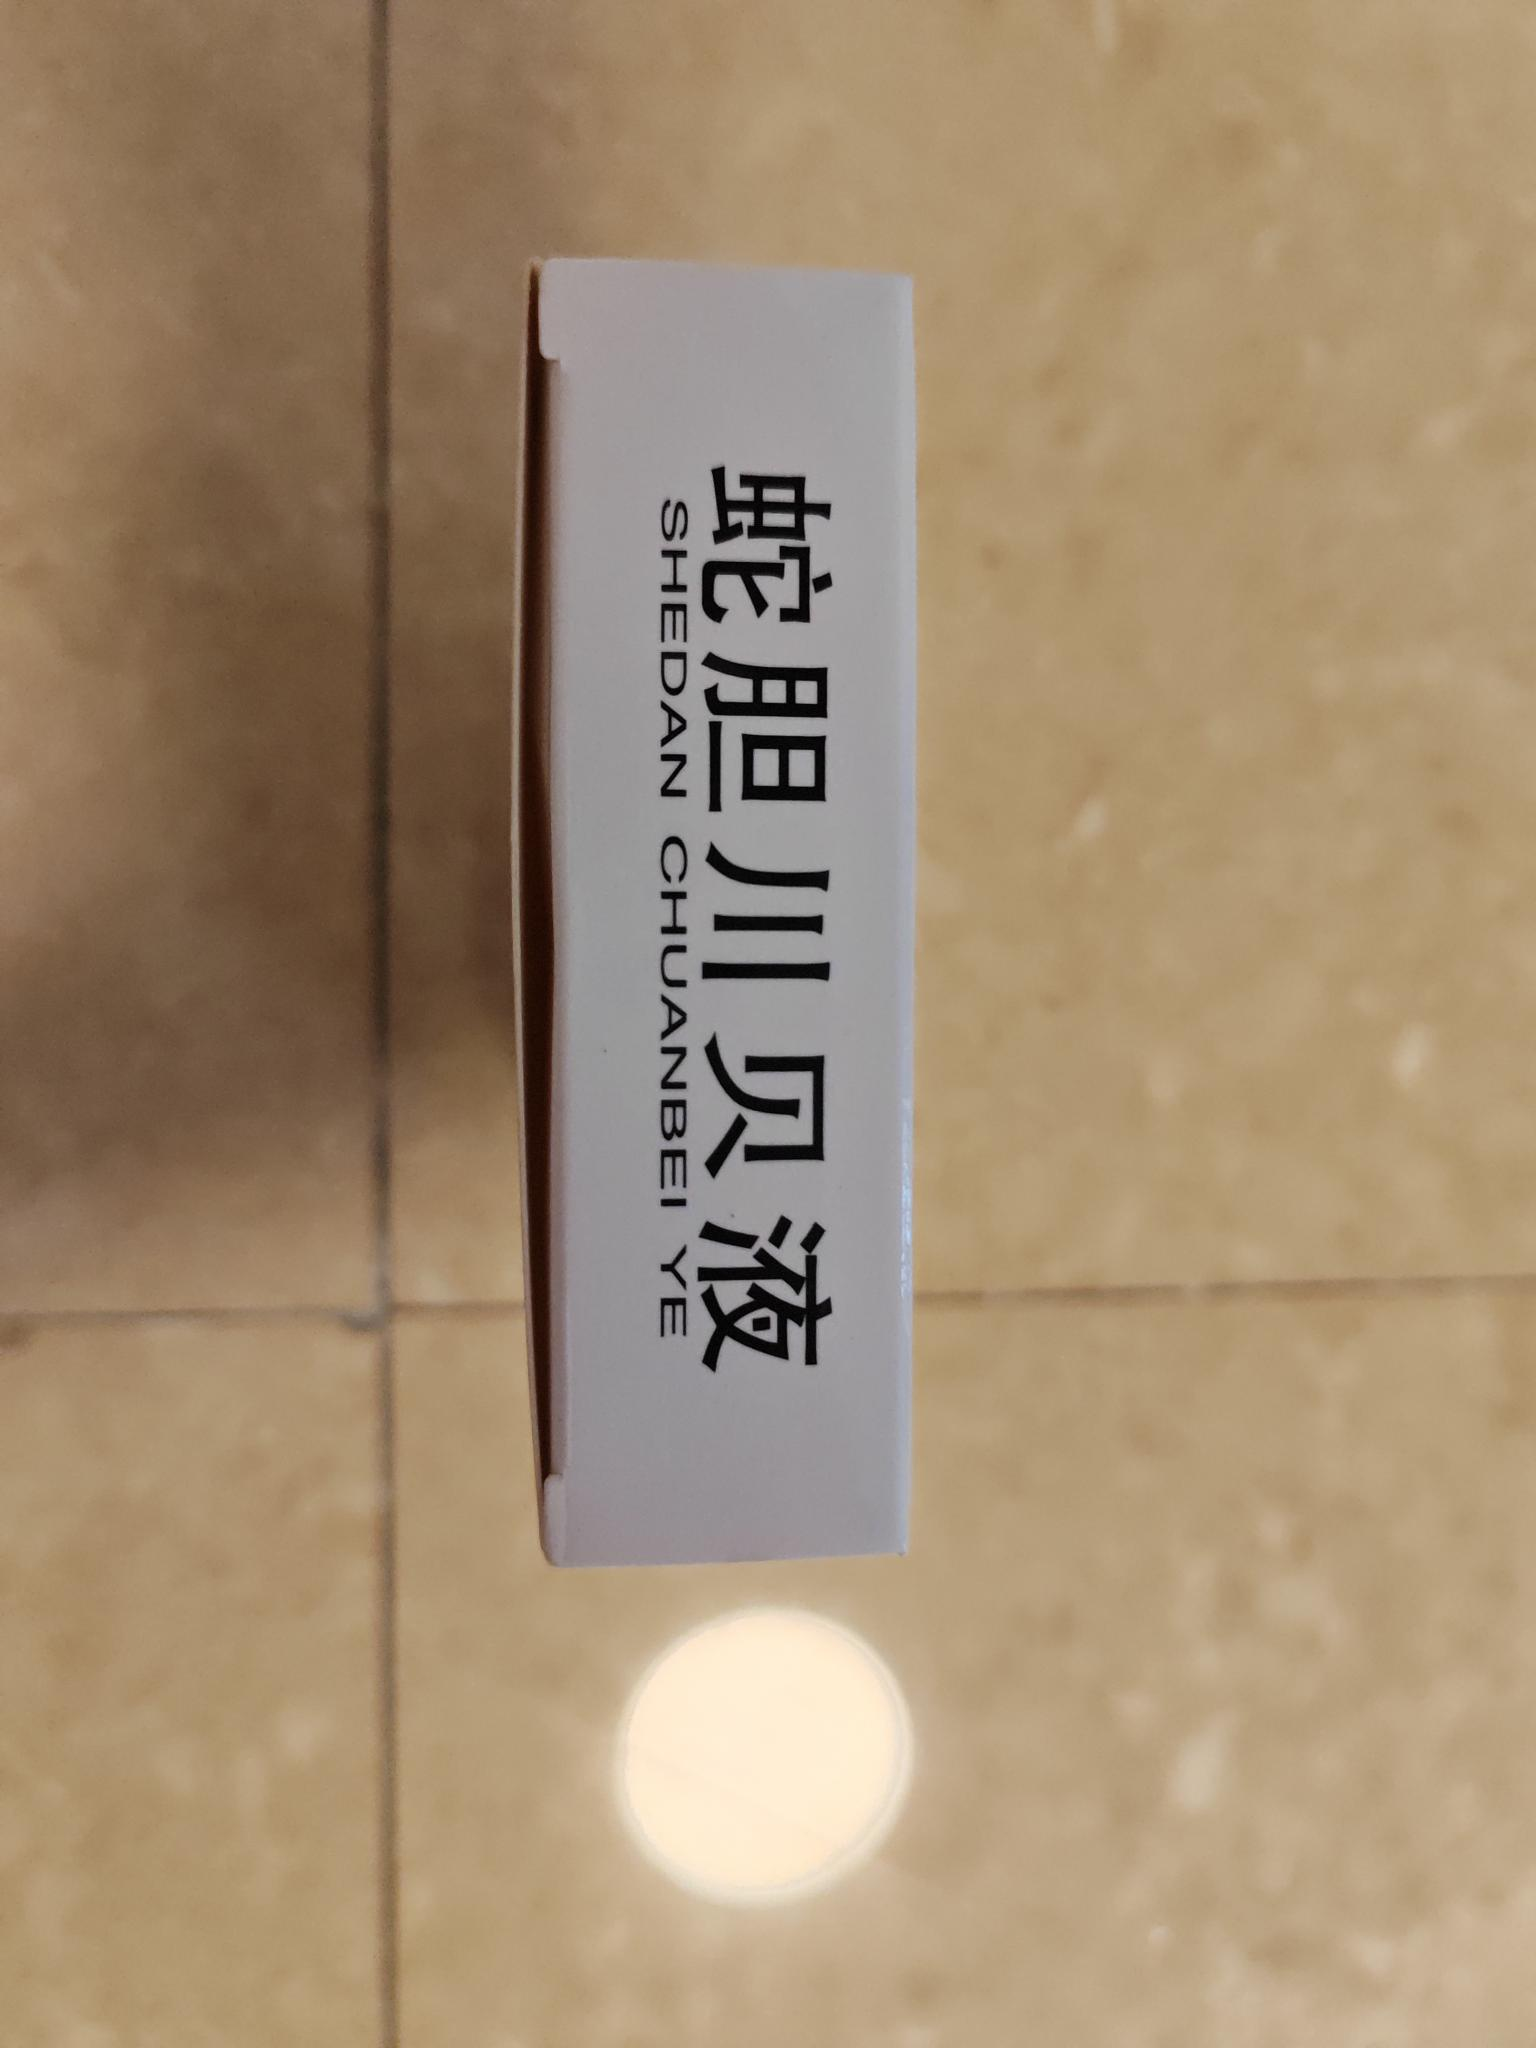Medicine5: (503, 223, 954, 1595)
